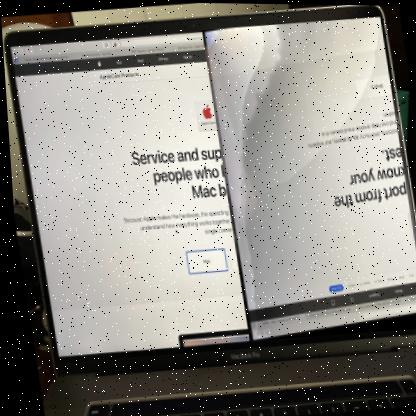fade: (200, 13, 415, 344)
